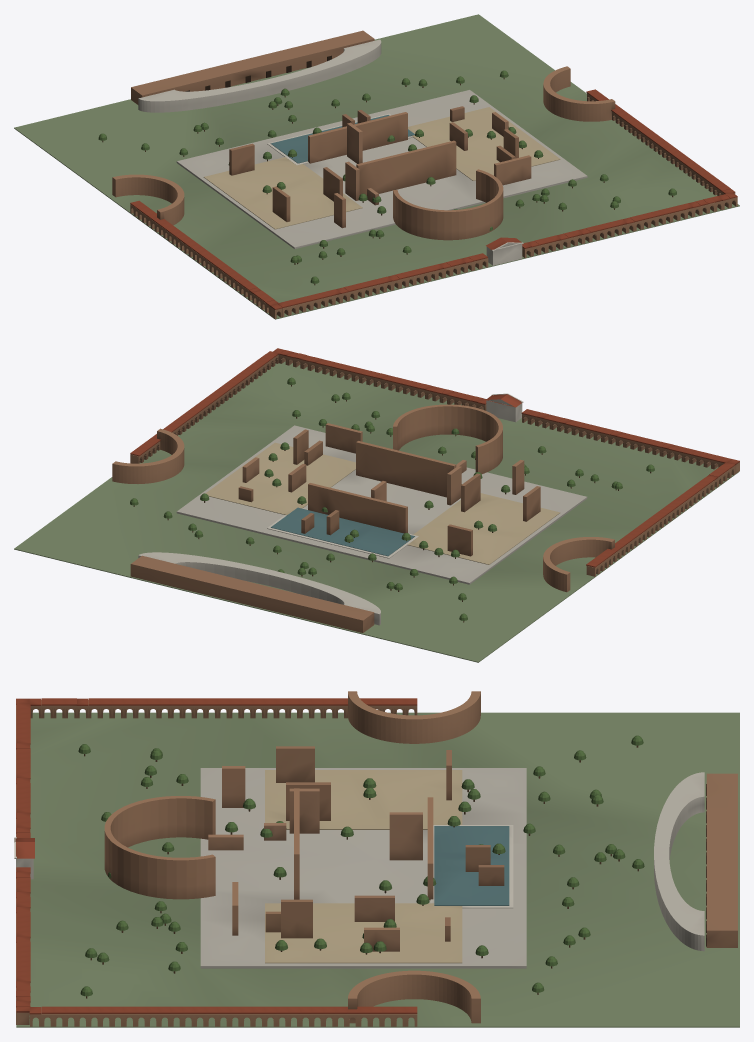
File: baths-of-diocletian-ruin.glb
3 views of the same model, one above another, from view 1: azimuth 30°, elevation 25°; view 2: azimuth 150°, elevation 25°; view 3: azimuth 270°, elevation 25° (orthographic). The views are drawn at different scales.
Parts seen in each view (by area): view 1: p0_precinct, p1_ruins, p2_vegetation; view 2: p0_precinct, p1_ruins, p2_vegetation; view 3: p0_precinct, p1_ruins, p2_vegetation.
Boxes of the visible parts, x1,y1,x2,y2 form: p0_precinct: (14,14,739,319); p1_ruins: (98,39,676,285); p2_vegetation: (228,95,543,251); p0_precinct: (14,348,739,662); p1_ruins: (130,377,654,625); p2_vegetation: (200,393,523,558); p0_precinct: (16,691,739,1027); p1_ruins: (78,735,704,998); p2_vegetation: (14,778,505,958).
Bounding box in the file's own units: 380 × 27.85 × 371.
